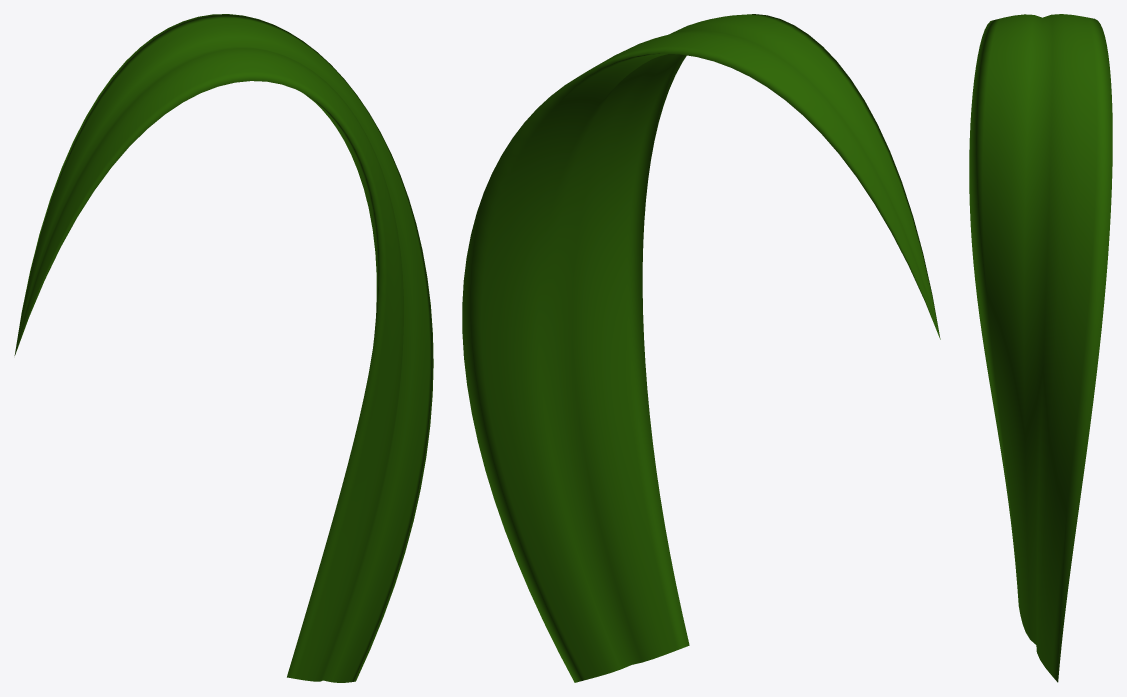
3 renders of one model, left to right at view 1: azimuth 30°, elevation 25°; view 2: azimuth 150°, elevation 25°; view 3: azimuth 270°, elevation 25°, orthographic. The views are drawn at different scales.
Parts seen in each view (by area): view 1: ТраекторияNurbs.008; view 2: ТраекторияNurbs.008; view 3: ТраекторияNurbs.008.
Part boxes in pixels (left/top/right/bottom): ТраекторияNurbs.008: left=14, top=14, right=433, bottom=682; ТраекторияNurbs.008: left=462, top=14, right=940, bottom=682; ТраекторияNurbs.008: left=969, top=14, right=1112, bottom=682.
Bounding box in the file's own units: 170 × 248 × 54.33.
